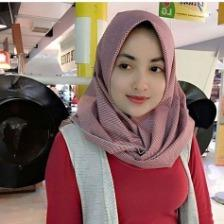Non Syar-i: (63, 9, 200, 166)
